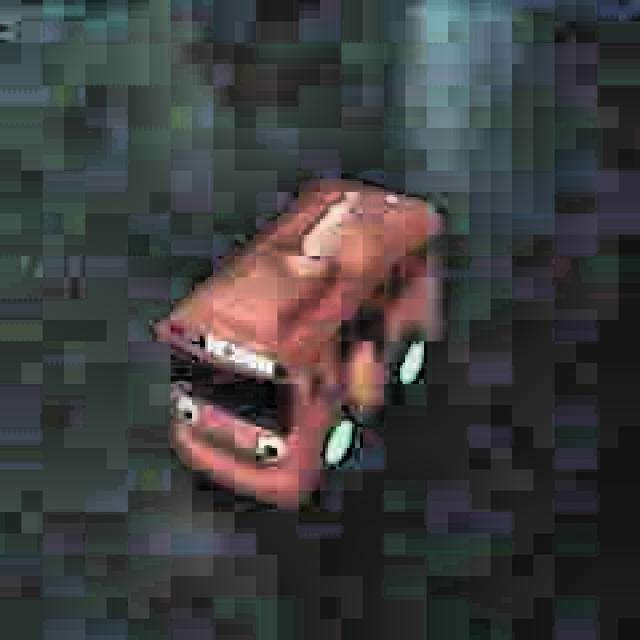bus: (142, 162, 458, 518)
